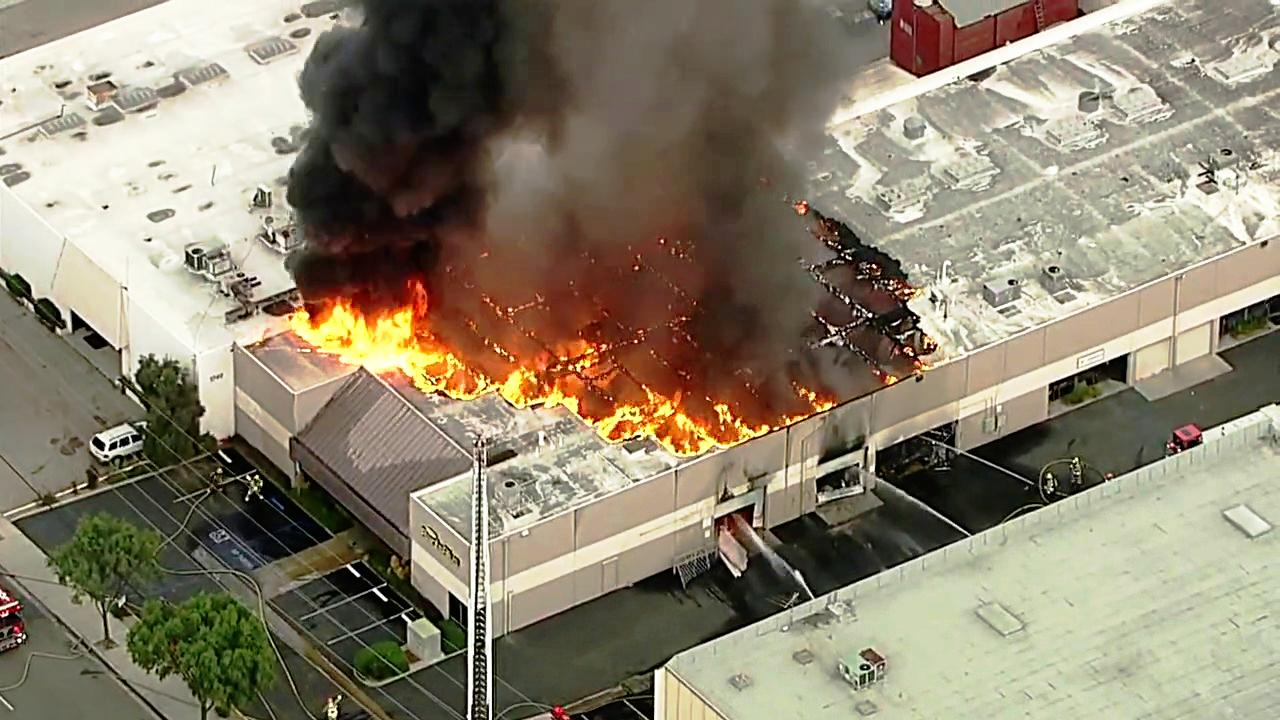fire: (289, 279, 421, 370)
smoke: (690, 17, 815, 362), (330, 9, 471, 231)
